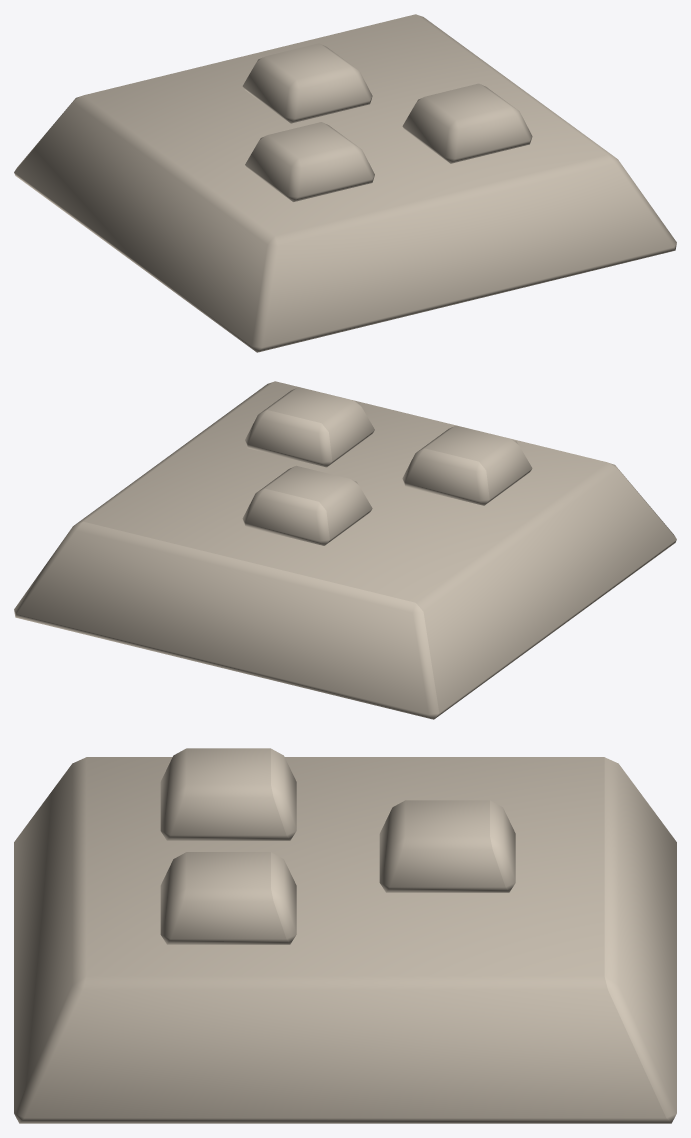
Rendered from battery_main_tidemark.glb.
3 renders of one model, top to bottom at view 1: azimuth 30°, elevation 25°; view 2: azimuth 150°, elevation 25°; view 3: azimuth 270°, elevation 25°, orthographic. The views are drawn at different scales.
Visible parts, largest first — view 1: battery_main_tidemark; view 2: battery_main_tidemark; view 3: battery_main_tidemark.
Boxes of the visible parts, x1=… form: battery_main_tidemark: x1=14, y1=14, x2=676, y2=352; battery_main_tidemark: x1=14, y1=381, x2=676, y2=719; battery_main_tidemark: x1=14, y1=748, x2=676, y2=1123.
Bounding box in the file's own units: 5.11 × 1.43 × 5.11.
